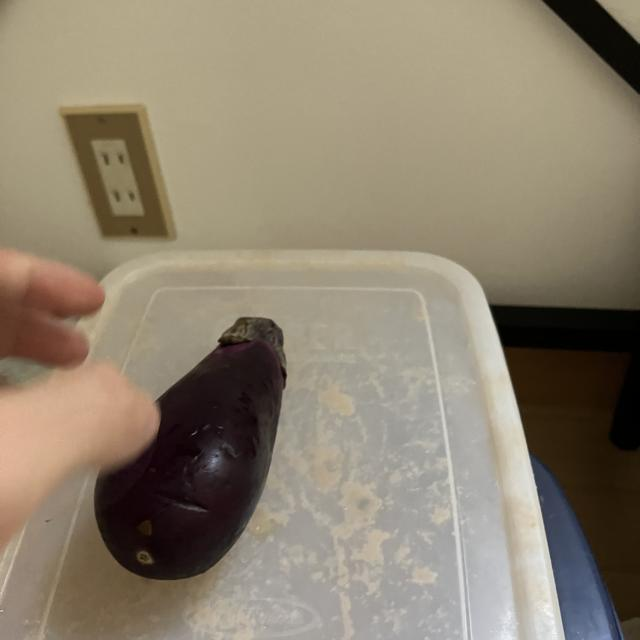eggplant: (93, 314, 291, 590)
